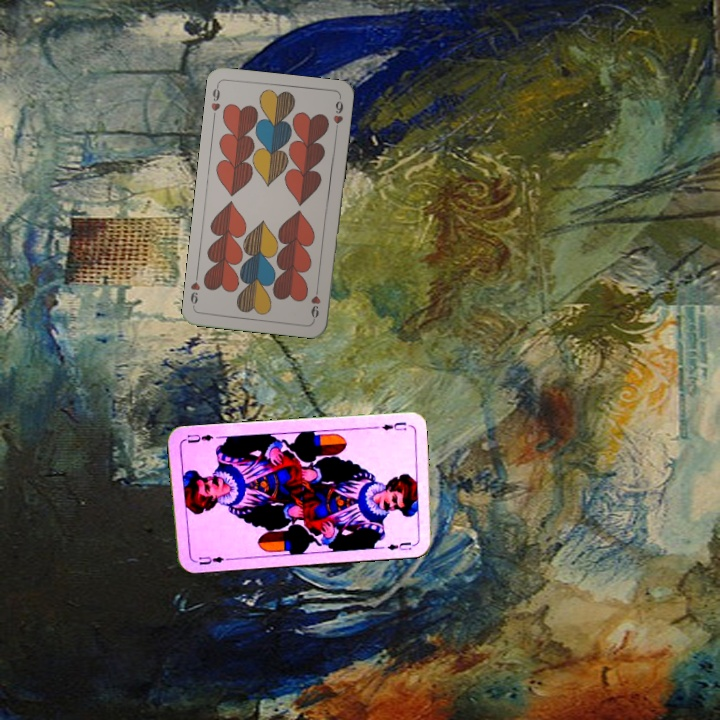EU: (370, 418, 409, 433), (195, 551, 226, 567)
H9: (207, 81, 223, 122), (307, 282, 323, 322)
